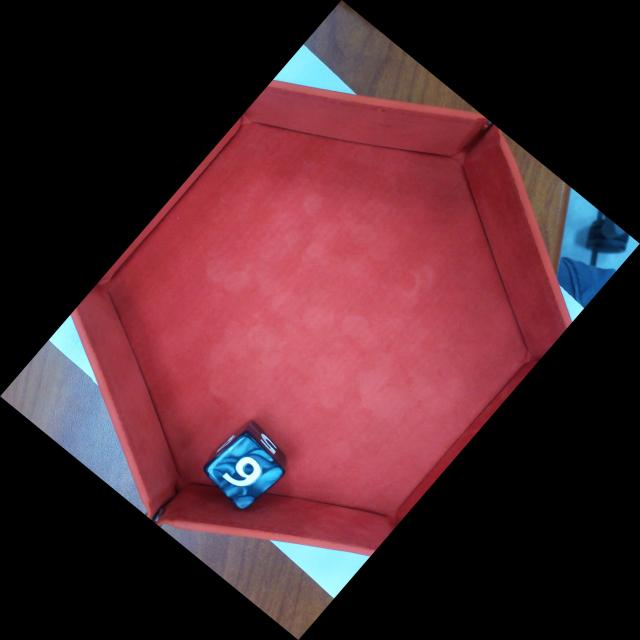dice: (201, 429, 289, 515)
